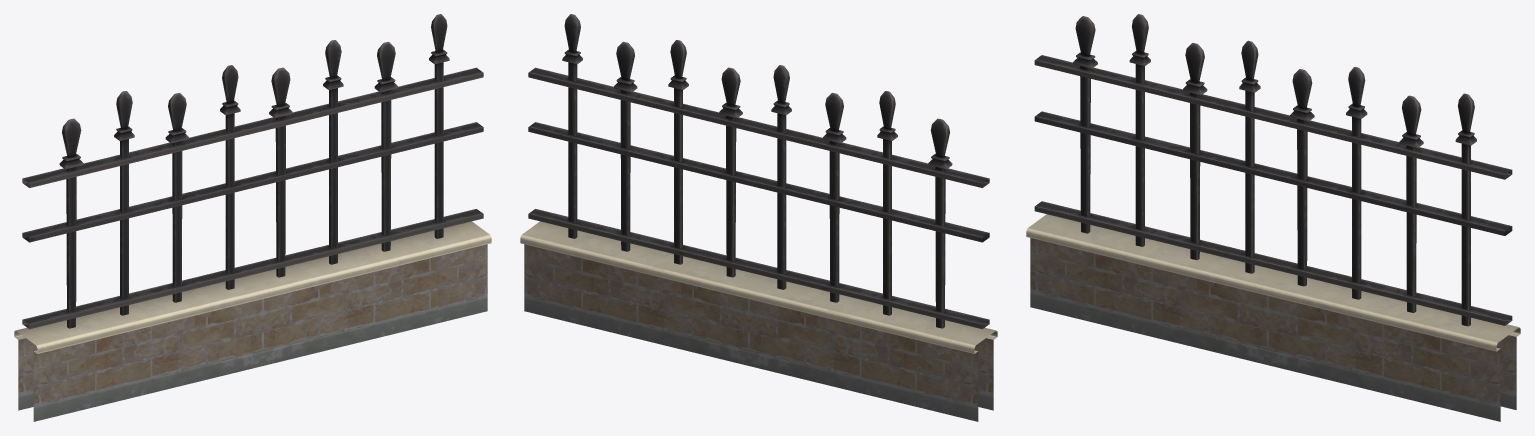
The model's file is StreetFence02_B5.FBX.
The picture shows the model from 3 angles, left to right: view 1: azimuth 30°, elevation 25°; view 2: azimuth 150°, elevation 25°; view 3: azimuth 330°, elevation 25°; orthographic projection. The views are drawn at different scales.
Parts seen in each view (by area): view 1: StreetFence02_B5; view 2: StreetFence02_B5; view 3: StreetFence02_B5.
Part boxes in pixels (<box>): StreetFence02_B5: <box>14,14,491,421</box>; StreetFence02_B5: <box>520,14,997,421</box>; StreetFence02_B5: <box>1026,14,1520,421</box>.
Size of what is drawn, in the model's own units: 3.04 by 1.92 by 0.2685.
